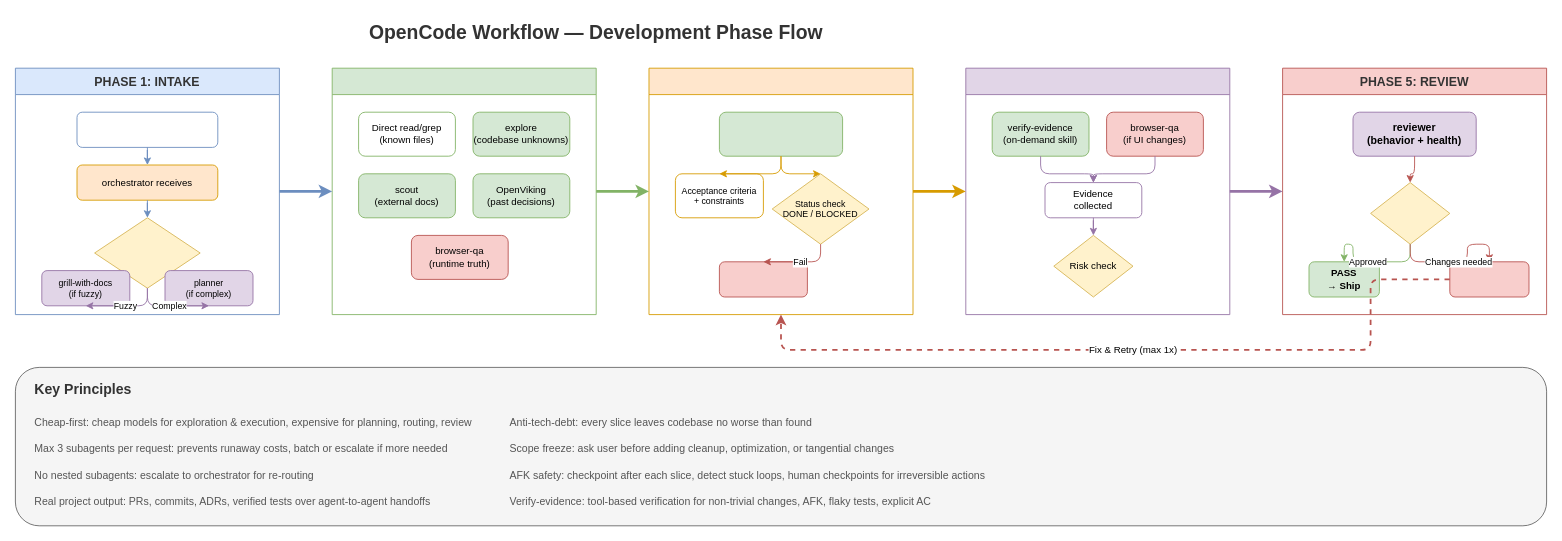
Image size: 1562x541. Some labels were removed from this diagram. Here are the shapes that lost their labels. From the top down, the box of each, then its label:
(76, 111, 218, 147): User Request
(719, 111, 843, 156): builder (narrow code edits)
(331, 67, 596, 315): PHASE 2: EXPLORE
(648, 67, 913, 315): PHASE 3: IMPLEMENT
(965, 67, 1230, 315): PHASE 4: VERIFY
(1370, 182, 1450, 244): Verdict
(94, 217, 200, 288): Triage: clear/fuzzy?
(719, 261, 807, 297): Retry once (if failed)
(1449, 261, 1529, 297): FAIL → Fix & Retry
